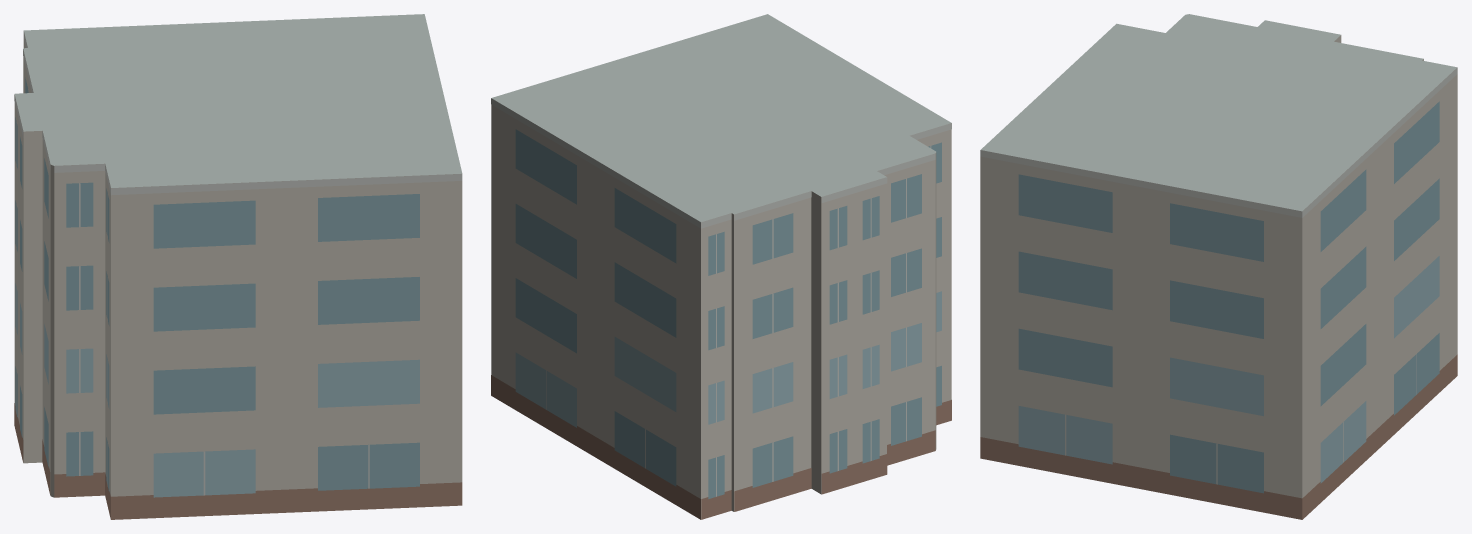
Rendered from survey-upis-32618386.glb.
The picture shows the model from 3 angles, left to right: view 1: azimuth 30°, elevation 25°; view 2: azimuth 150°, elevation 25°; view 3: azimuth 270°, elevation 25°; orthographic projection. The views are drawn at different scales.
Parts seen in each view (by area): view 1: survey-upis-32618386.tmp; view 2: survey-upis-32618386.tmp; view 3: survey-upis-32618386.tmp.
Part boxes in pixels (x1=…): survey-upis-32618386.tmp: x1=14, y1=14, x2=462, y2=519; survey-upis-32618386.tmp: x1=491, y1=14, x2=951, y2=519; survey-upis-32618386.tmp: x1=980, y1=14, x2=1457, y2=519.
Bounding box in the file's own units: 15.65 × 11.4 × 15.99.
